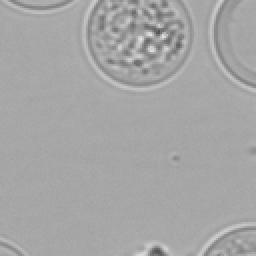picoshell: (82, 0, 192, 90), (208, 0, 254, 92), (198, 222, 254, 254), (0, 0, 78, 12), (0, 236, 26, 254)
